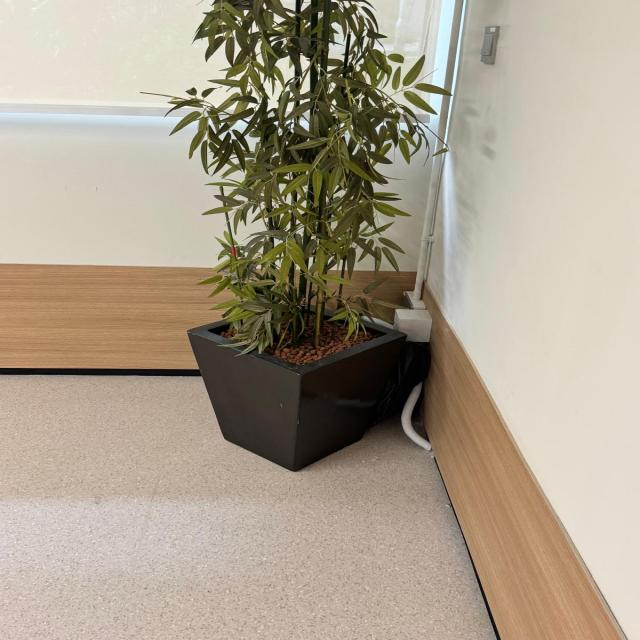Pot: (185, 300, 408, 472)
